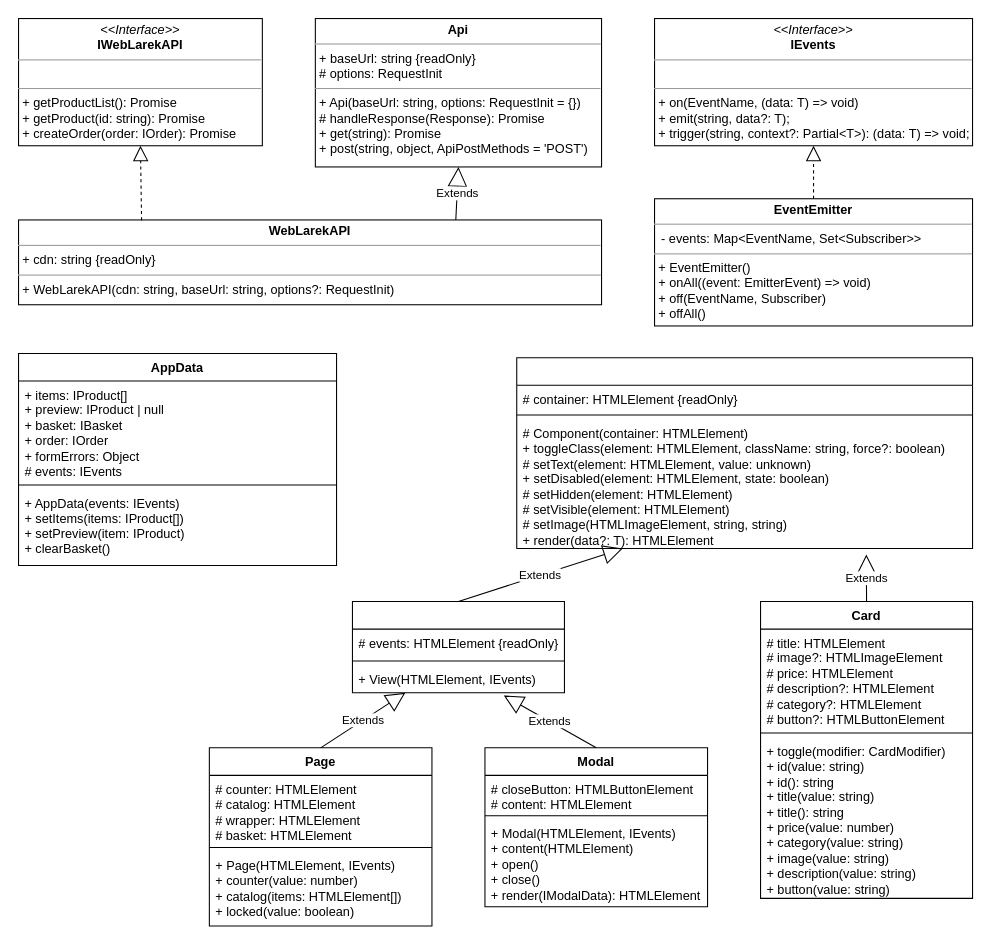
The diagram is 991 pixels wide and 948 high, and some of its shapes have lost their labels. Here are the shapes that lost their labels. From the top down, the box of each, then its label:
(516, 357, 973, 549): Component<T>
(351, 600, 564, 693): View<T>
